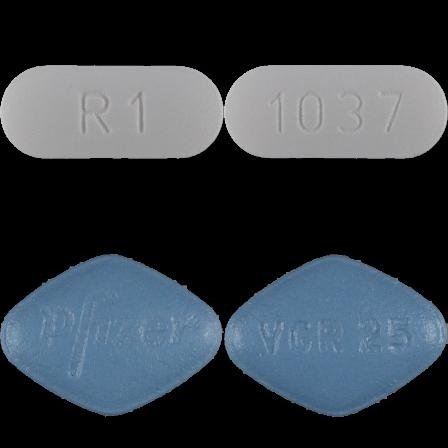43063-254: (0, 0, 224, 224)
